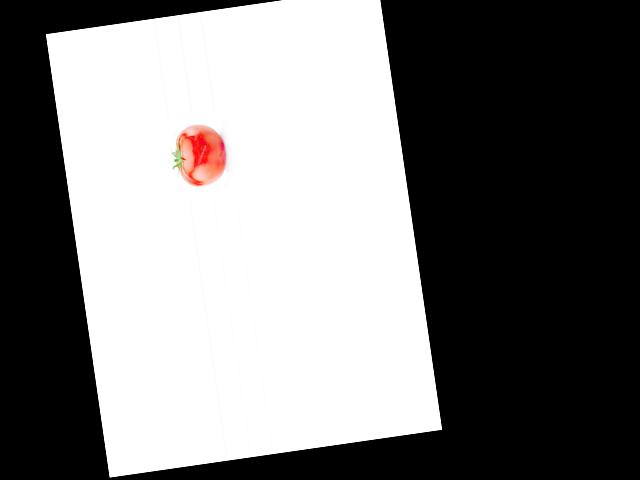tomato: (171, 121, 228, 189)
